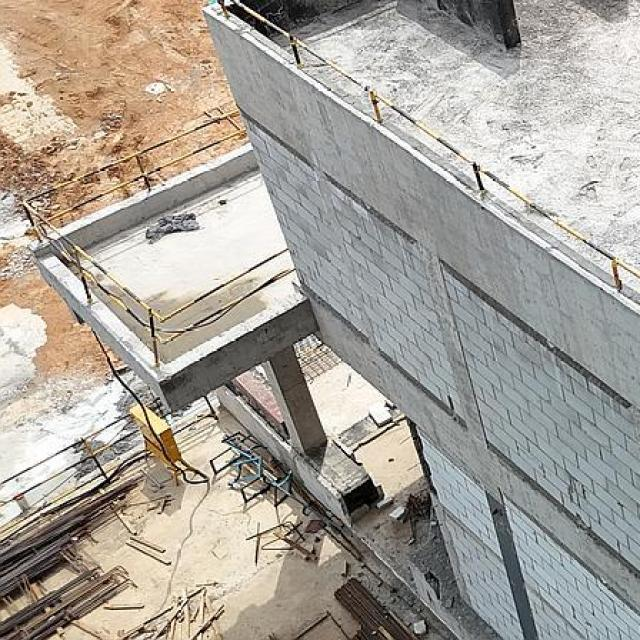Guardrail: (214, 0, 640, 299), (13, 91, 308, 375)
